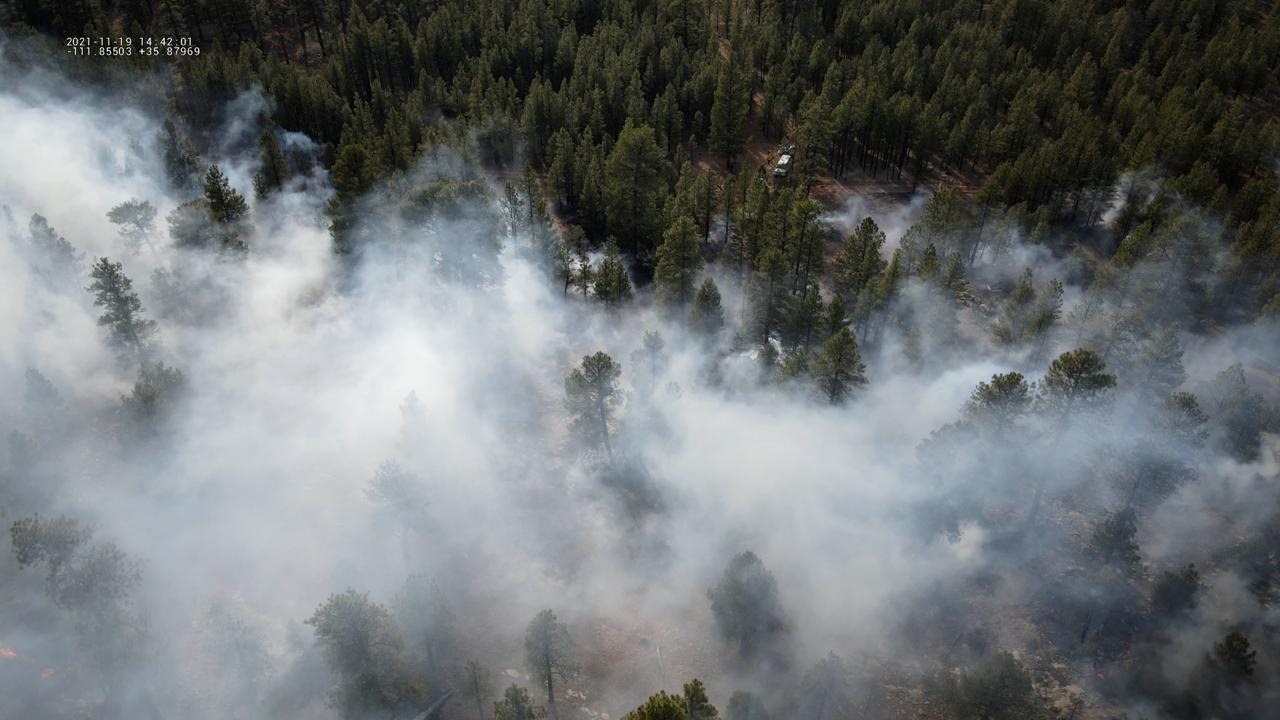fire: (1097, 672, 1106, 681)
smoke: (0, 22, 1280, 720)
